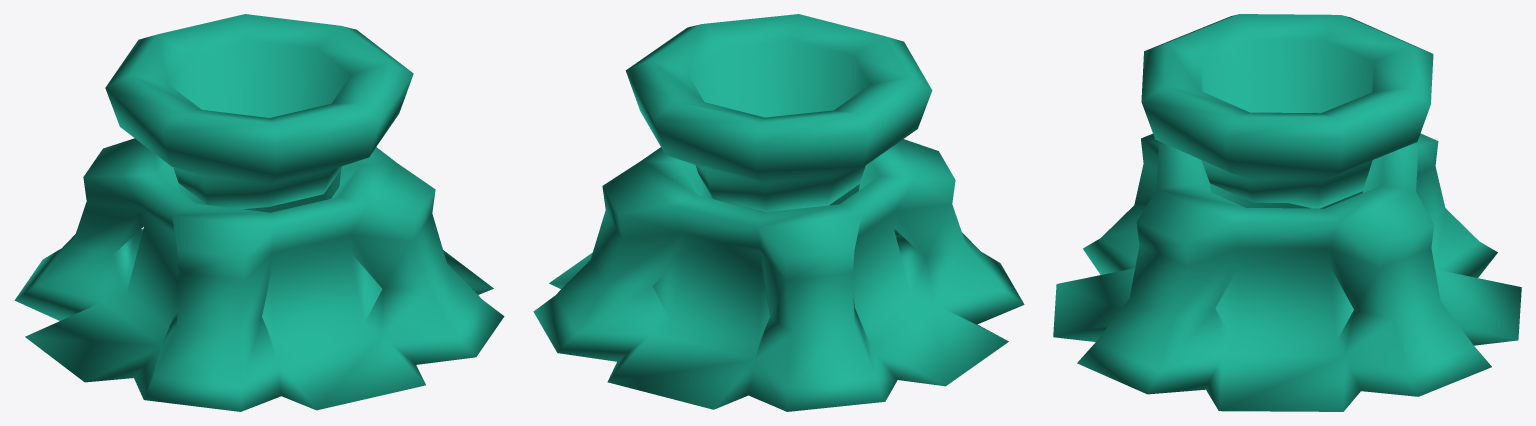
Rendered from cannon2.obj.
3 renders of one model, left to right at view 1: azimuth 30°, elevation 25°; view 2: azimuth 150°, elevation 25°; view 3: azimuth 270°, elevation 25°, orthographic.
Visible parts, largest first — view 1: Cylinder001; view 2: Cylinder001; view 3: Cylinder001.
Boxes of the visible parts, x1,y1,x2,y2 form: Cylinder001: (14,14,504,411); Cylinder001: (533,14,1024,411); Cylinder001: (1053,14,1521,411).
Size of the model in its own units: 71.66 by 41.26 by 71.13.
